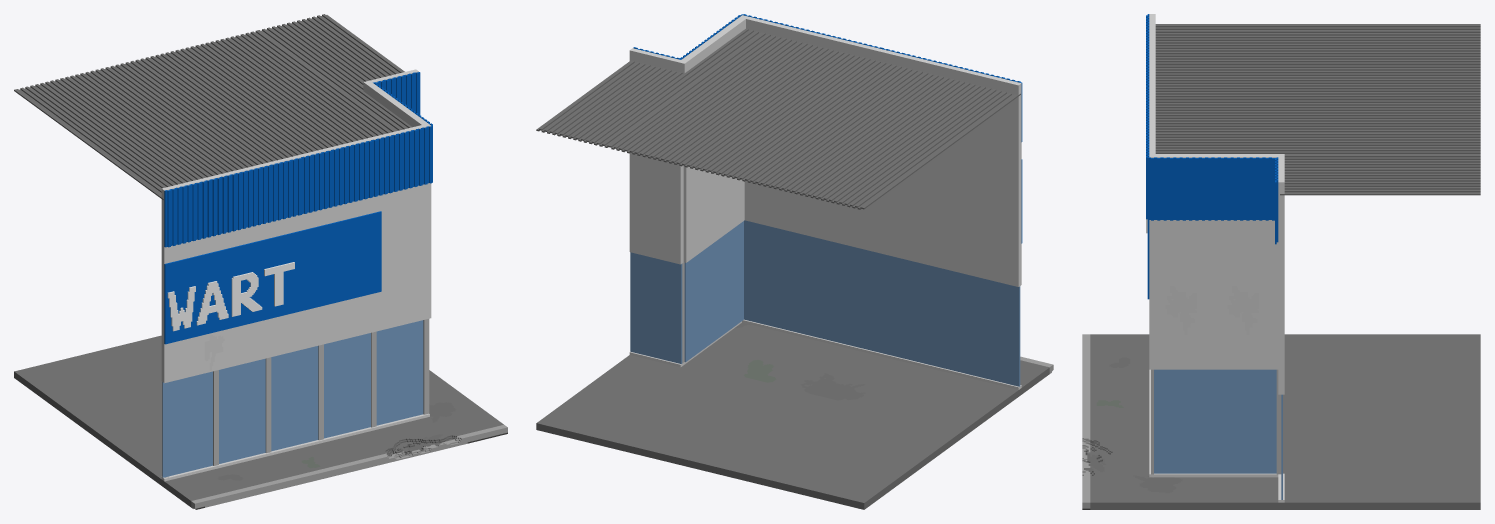
File: shop_entrance_right.vox.obj
3 views of the same model, side by side, from view 1: azimuth 30°, elevation 25°; view 2: azimuth 150°, elevation 25°; view 3: azimuth 270°, elevation 25° (orthographic). The views are drawn at different scales.
Size of the model in its own units: 25 by 22.7 by 25.
1 material, 1 textured.
